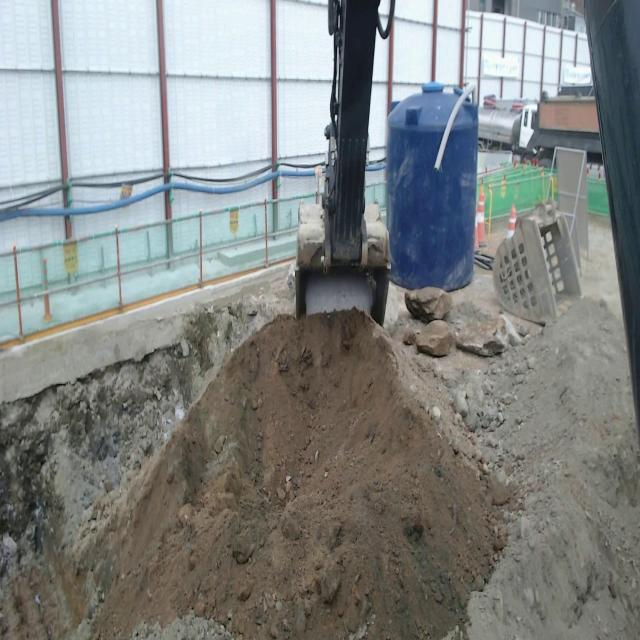red-sand: (63, 311, 519, 639)
stone: (454, 314, 522, 357), (405, 287, 452, 323), (415, 320, 455, 357)
white-sand: (467, 298, 640, 639)
